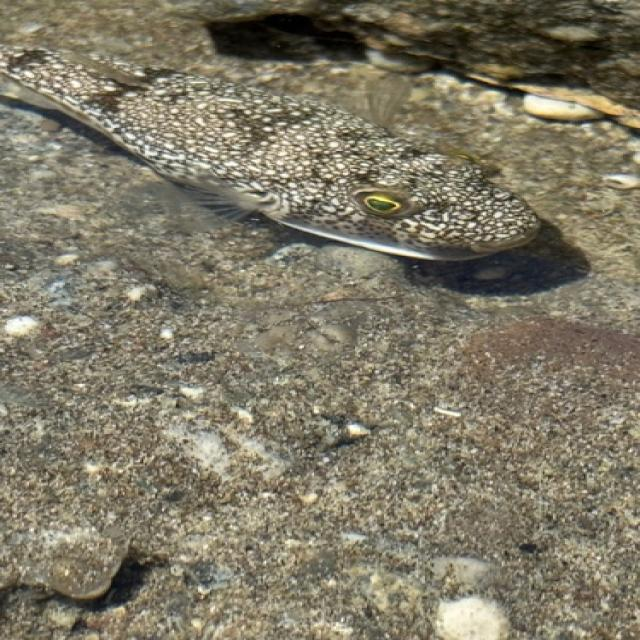Balik: (0, 45, 539, 259)
